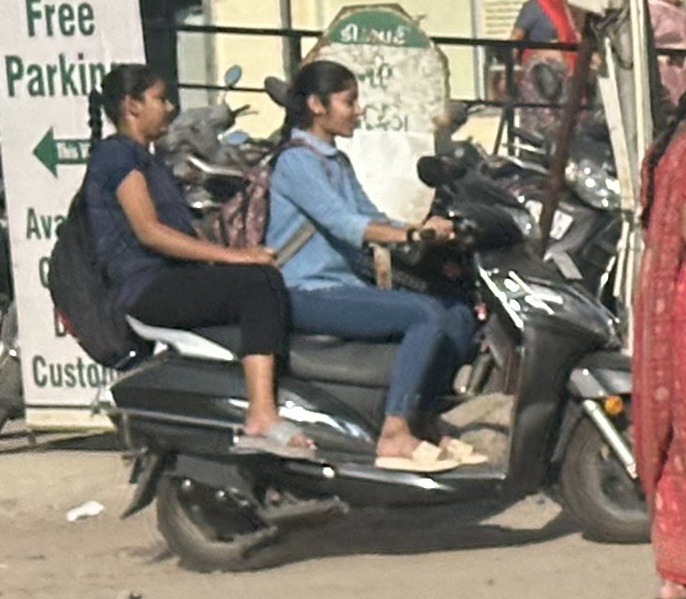BikeWithRider: (34, 46, 663, 581)
NoHelmet: (275, 54, 372, 146), (91, 57, 184, 152)
